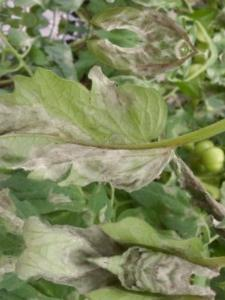Tomato leaf late blight: (0, 47, 200, 218)
